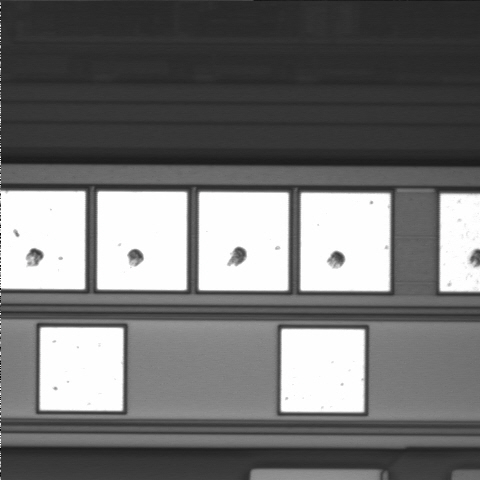pad: (97, 191, 187, 290), (199, 192, 289, 291), (300, 193, 390, 291), (40, 327, 123, 411), (281, 329, 365, 412)
